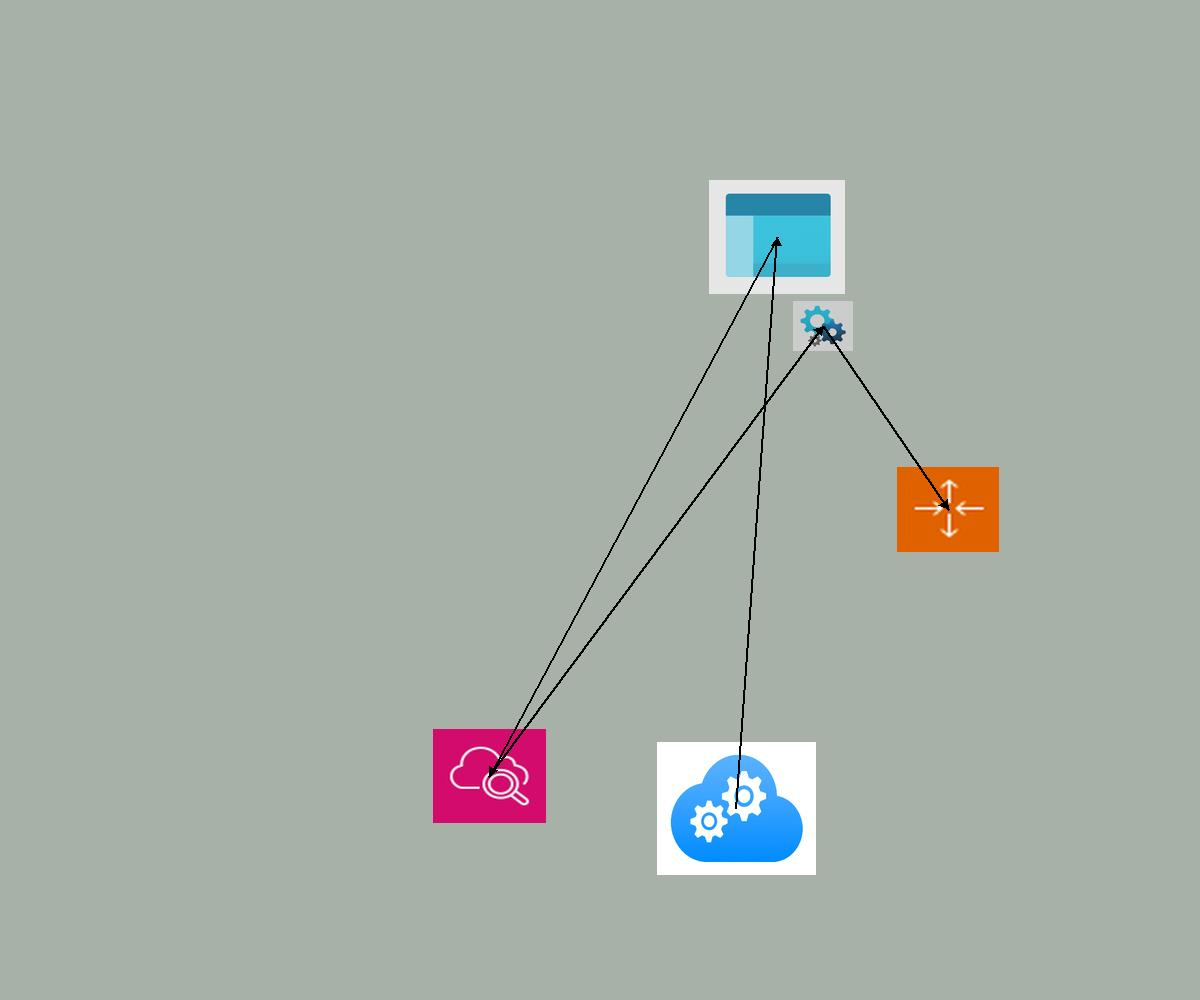AWS-CloudWatch: (433, 729, 546, 823)
AWS-Scaling-group: (897, 467, 999, 552)
Azure_api: (793, 301, 853, 351)
Azure_cloud_services: (657, 742, 816, 875)
Azure_management-portal: (709, 180, 845, 294)
